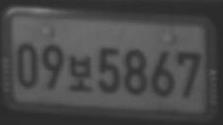0: (16, 42, 38, 88)
5: (97, 47, 120, 93)
6: (150, 50, 175, 96)
7: (177, 51, 202, 98)
8: (124, 48, 148, 95)
9: (41, 44, 64, 88)
보: (69, 55, 92, 91)
